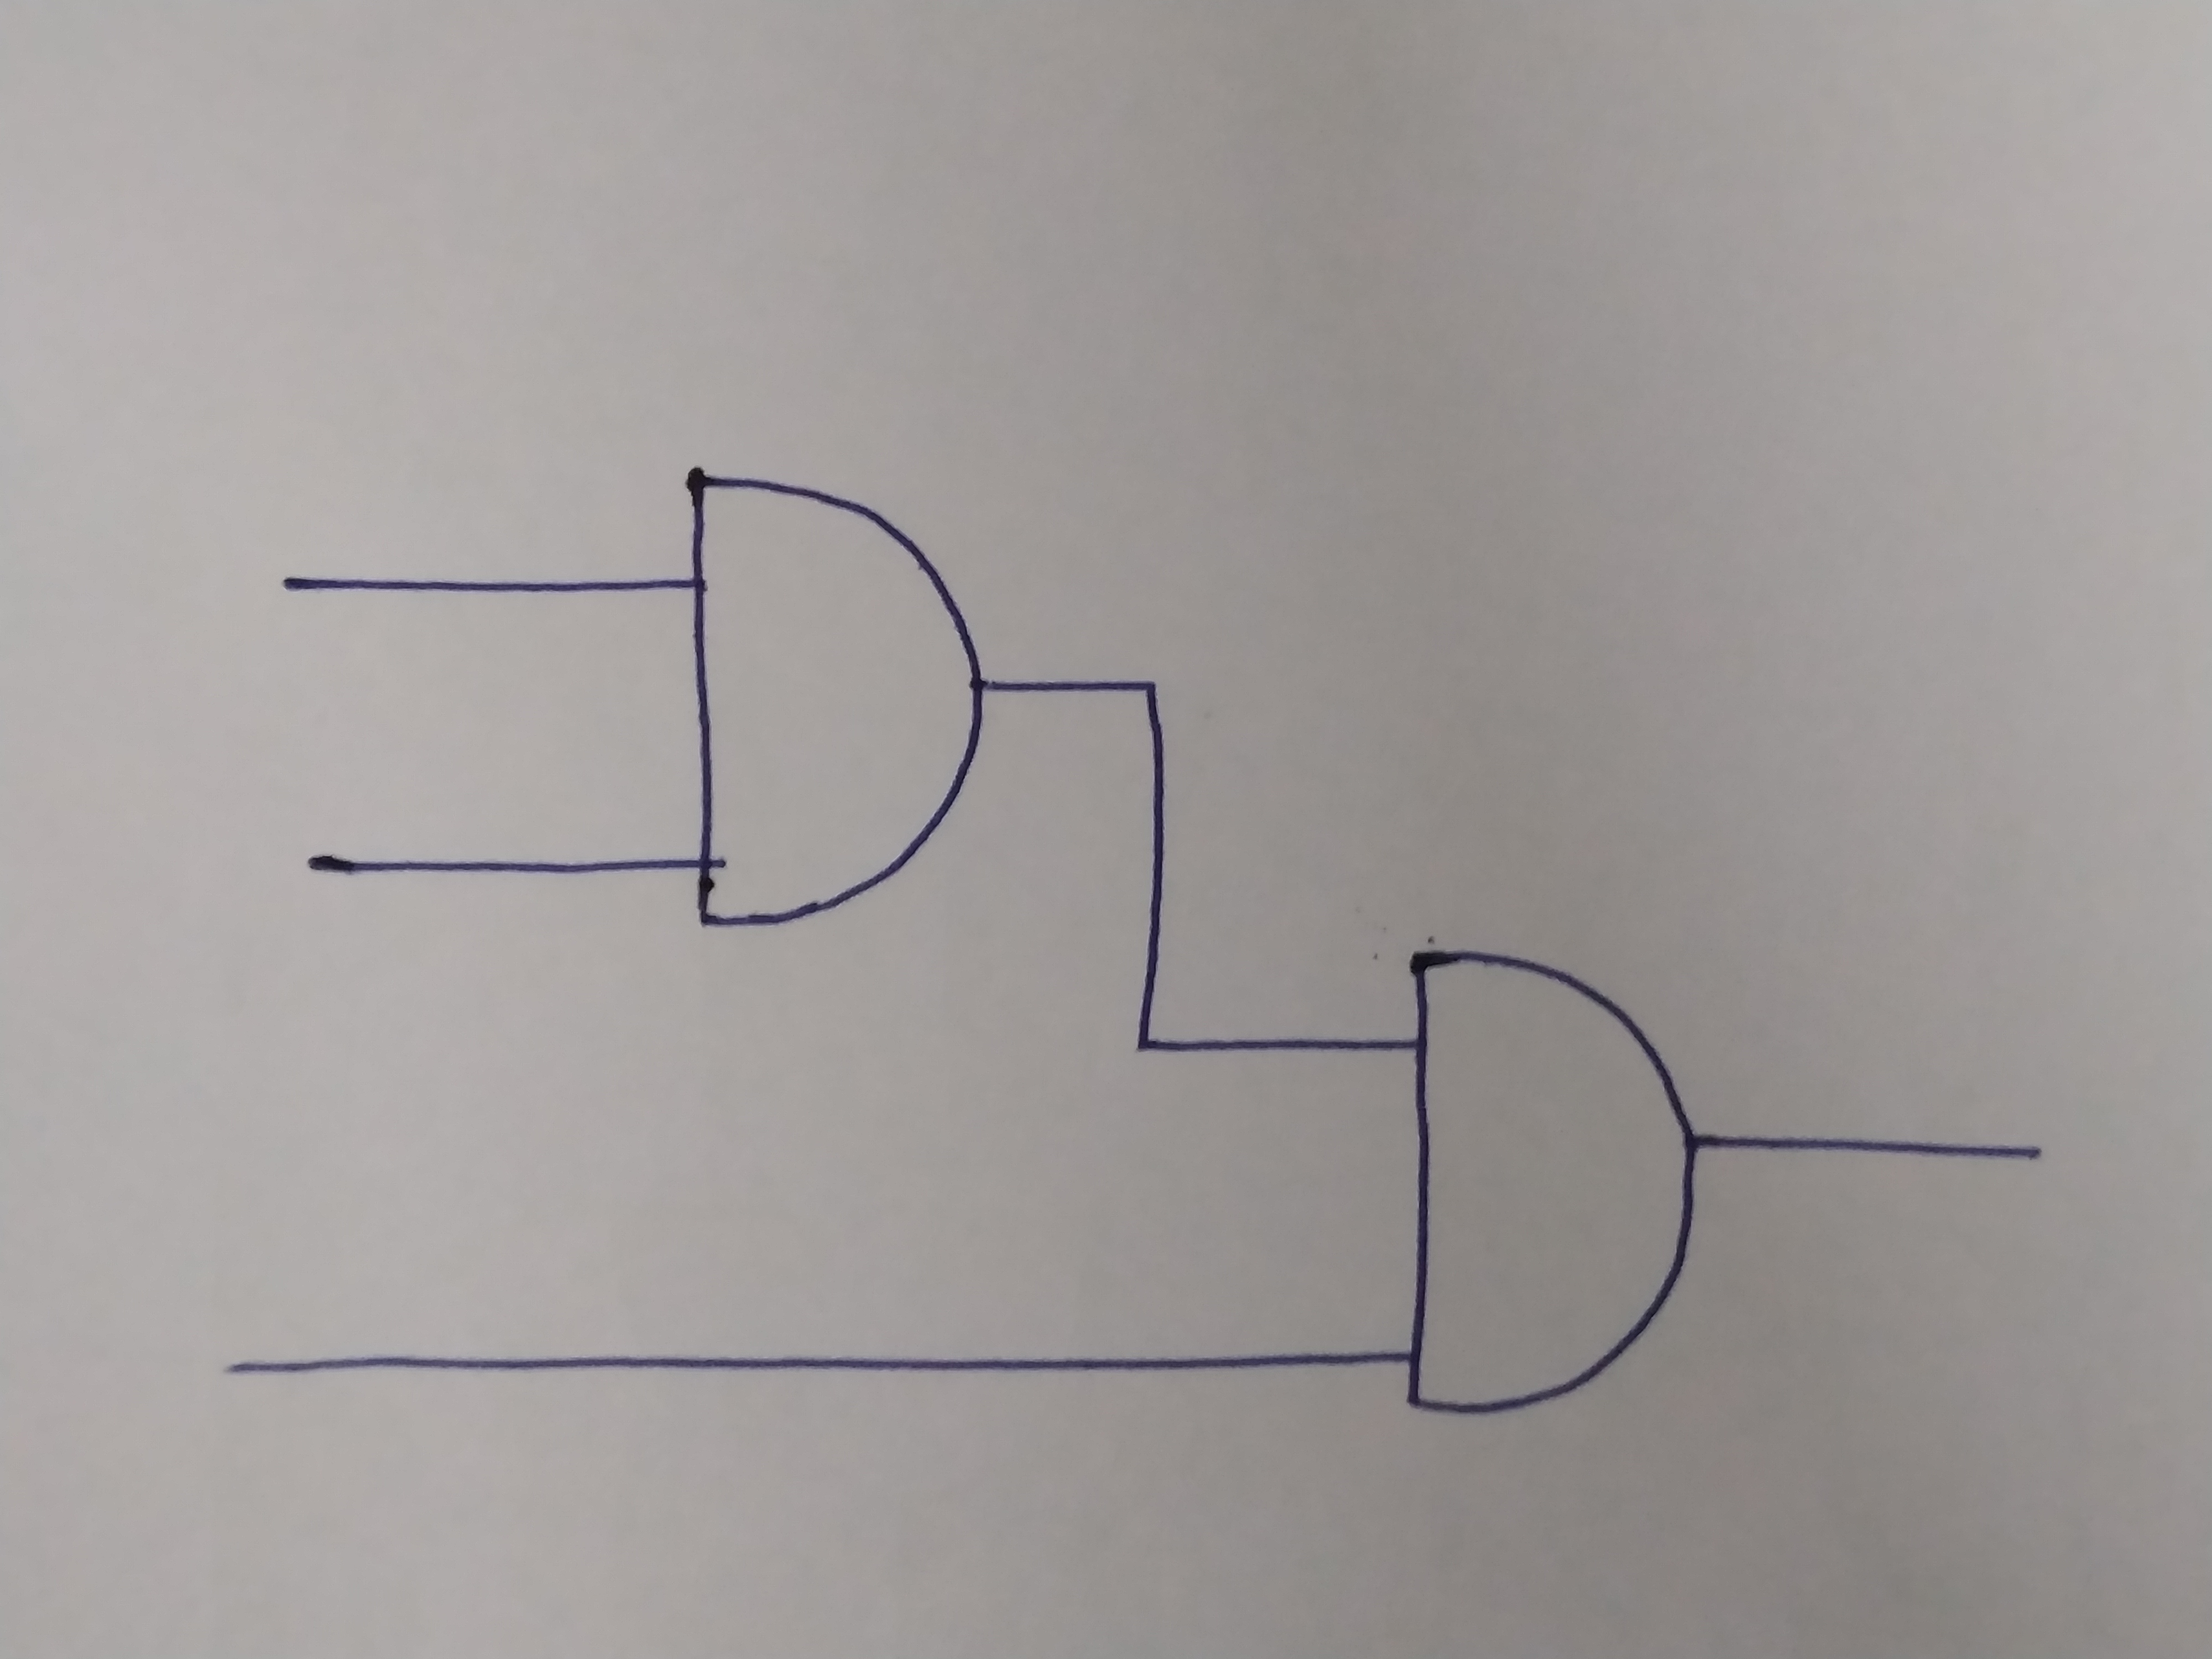and: (1409, 955, 1698, 1417), (685, 471, 977, 922)
